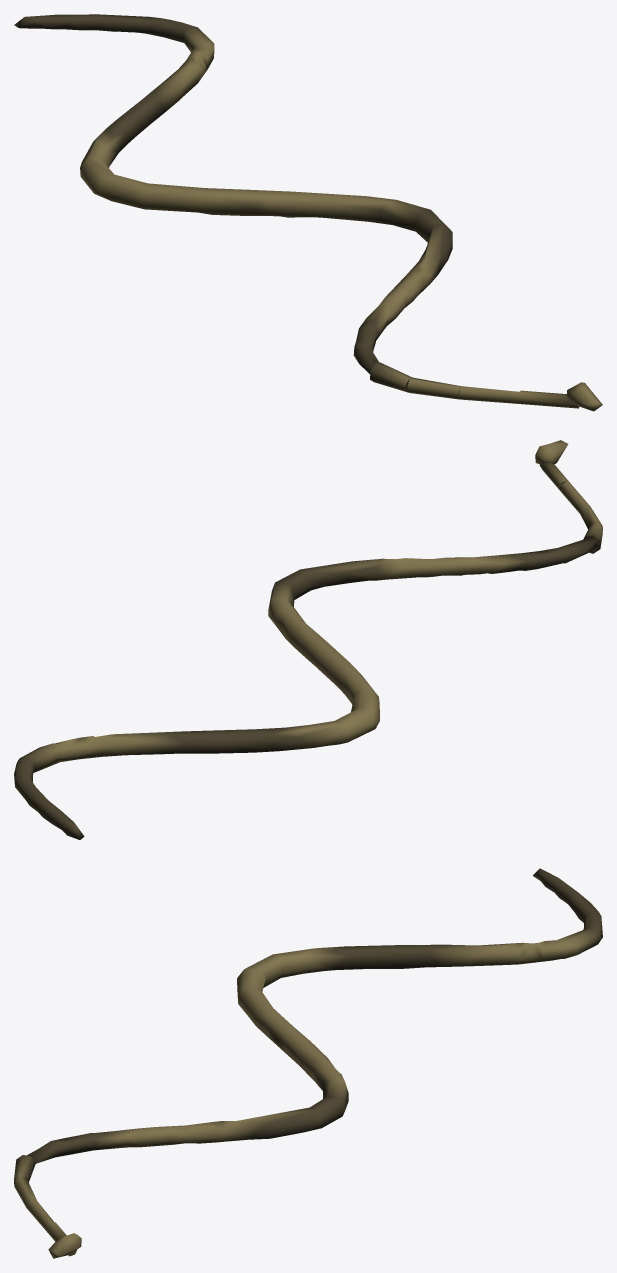
The model's file is schlange.glb.
The picture shows the model from 3 angles, top to bottom: view 1: azimuth 30°, elevation 25°; view 2: azimuth 150°, elevation 25°; view 3: azimuth 330°, elevation 25°; orthographic projection. The views are drawn at different scales.
Visible parts, largest first — view 1: lack; view 2: lack; view 3: lack.
Boxes of the visible parts, box(x1,y1,x2,y2) form: lack: box(14, 14, 602, 411); lack: box(14, 440, 602, 839); lack: box(14, 868, 602, 1258).
Bounding box in the file's own units: 0.3988 × 0.0404 × 1.56.
